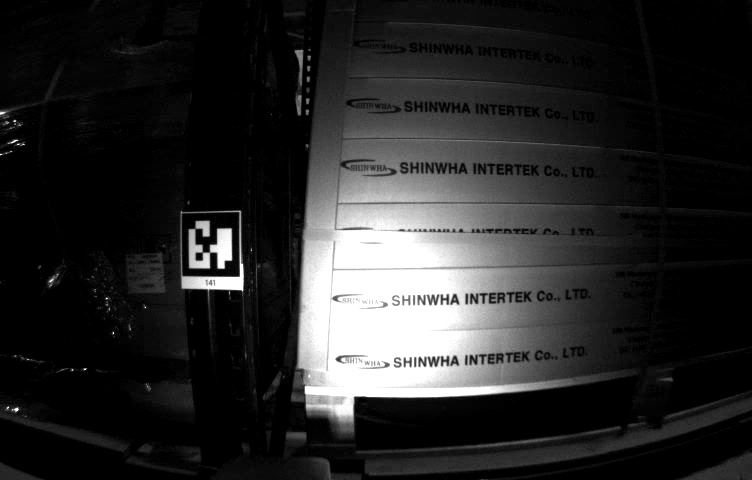True Barcode: (124, 252, 164, 294)
